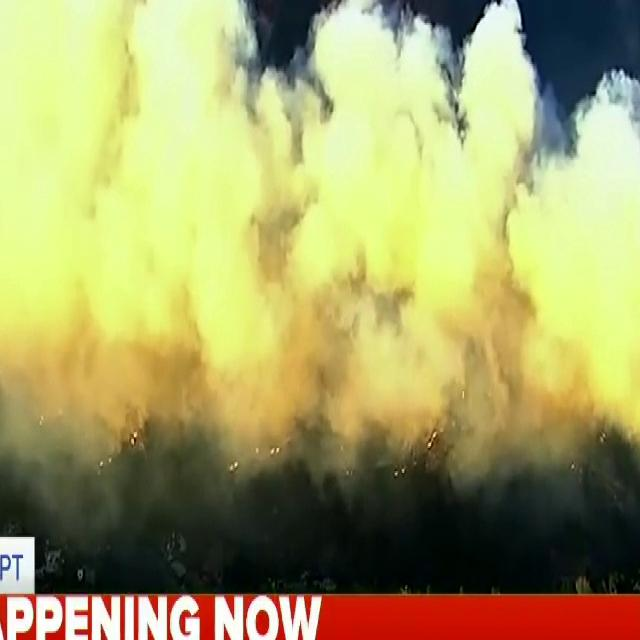smoke: (0, 0, 640, 524), (0, 0, 479, 512), (490, 0, 640, 507)
